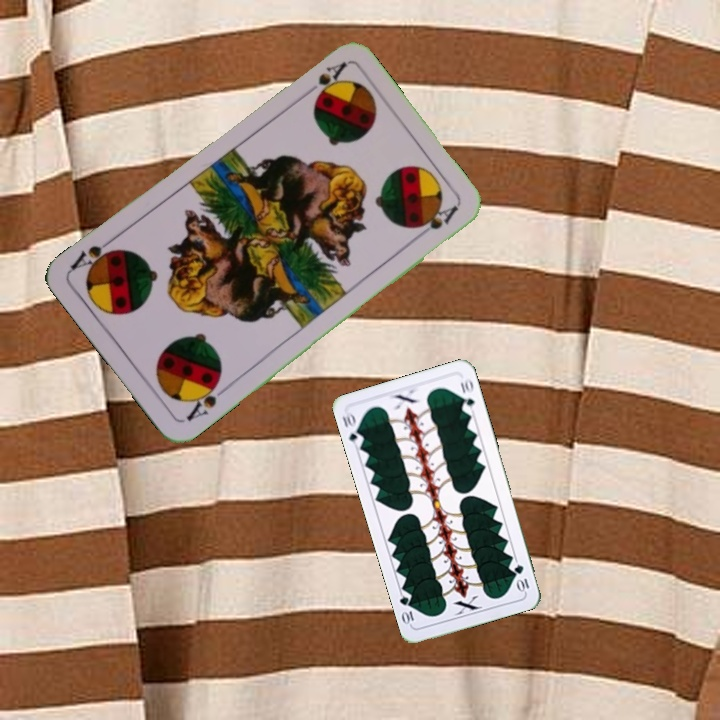G10: (338, 408, 366, 449), (510, 560, 532, 594)
SA: (298, 58, 349, 101), (182, 375, 224, 424)
